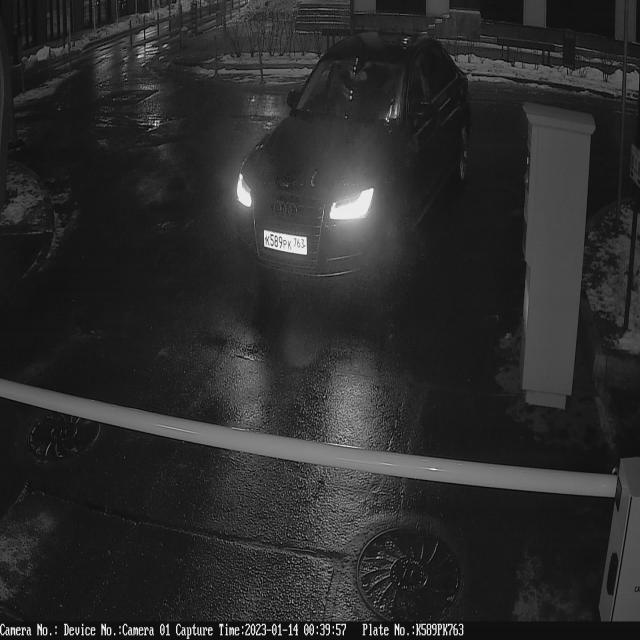car-plate-numbers: (262, 228, 312, 260)
